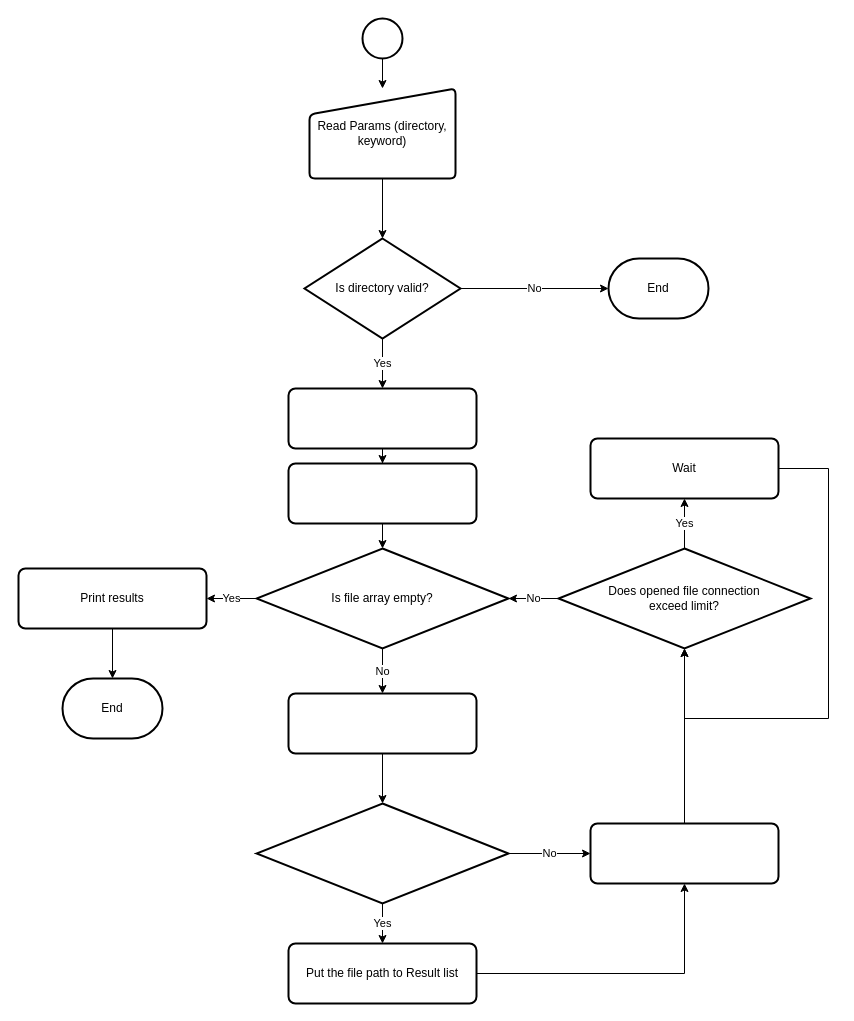
Image size: 854x1021. Some labels were removed from this diagram. Here are the shapes that lost their labels. From the top down, the centre of each, then its label:
At (x=382, y=418): "Find all files under given directory".
At (x=382, y=493): "Put detected files in an array".
At (x=382, y=723): "Pop a file and create a read stream".
At (x=382, y=853): "Does any line in the file contain the key word?".
At (x=684, y=853): "Close the read stream".
